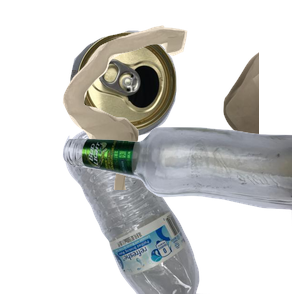glass: (60, 124, 300, 300)
metal: (68, 28, 237, 159)
plastic: (63, 120, 263, 300)
trash: (60, 23, 300, 203)
